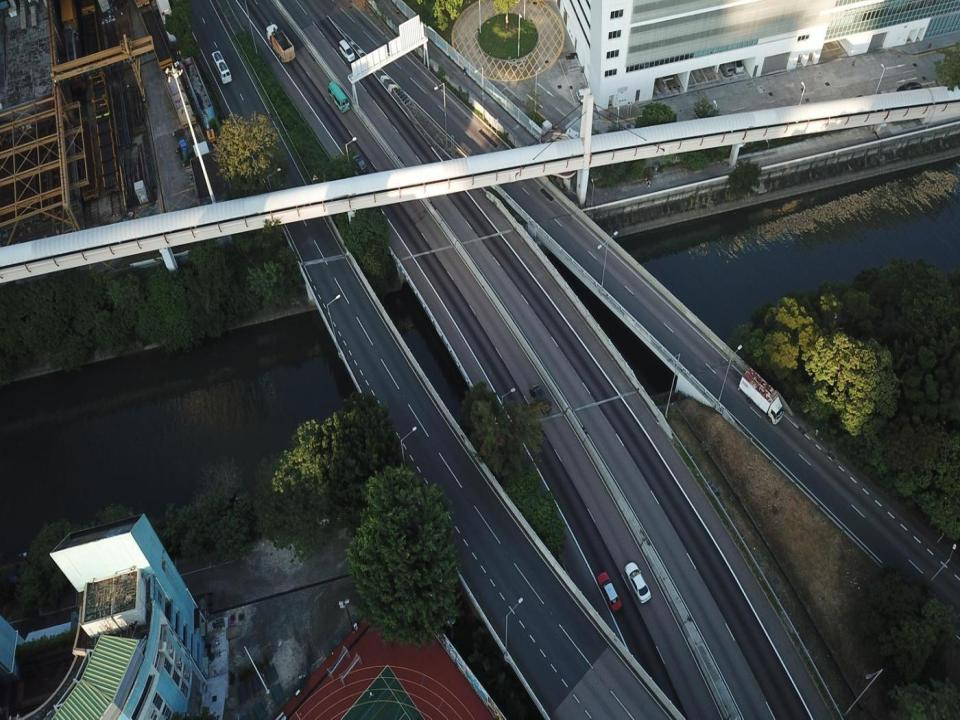bus: (329, 82, 350, 114), (212, 51, 231, 84)
car: (624, 562, 650, 603), (597, 571, 621, 611), (529, 383, 551, 413), (898, 82, 922, 95), (353, 154, 366, 173), (733, 54, 744, 72)
truck: (738, 367, 784, 424), (266, 24, 296, 63)
van: (719, 52, 734, 77), (340, 39, 356, 62), (177, 130, 188, 154)
